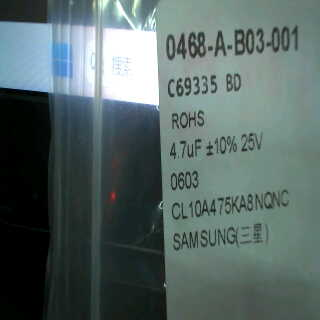4.7uF: (166, 135, 204, 166)
